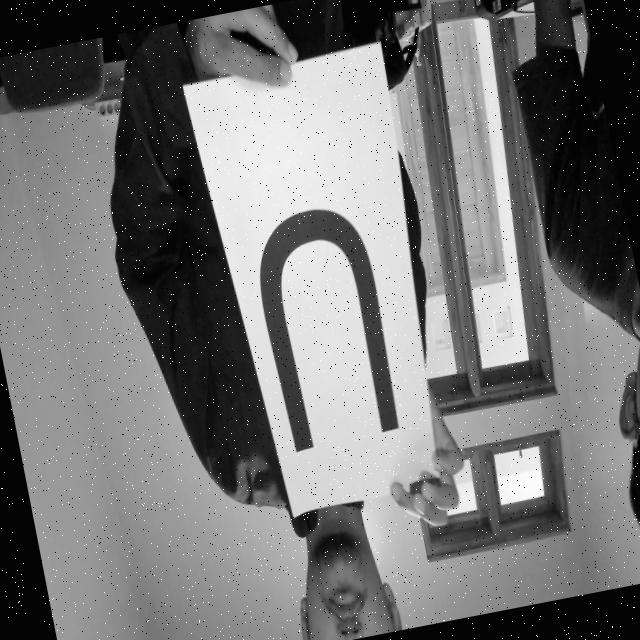u: (228, 184, 421, 477)
